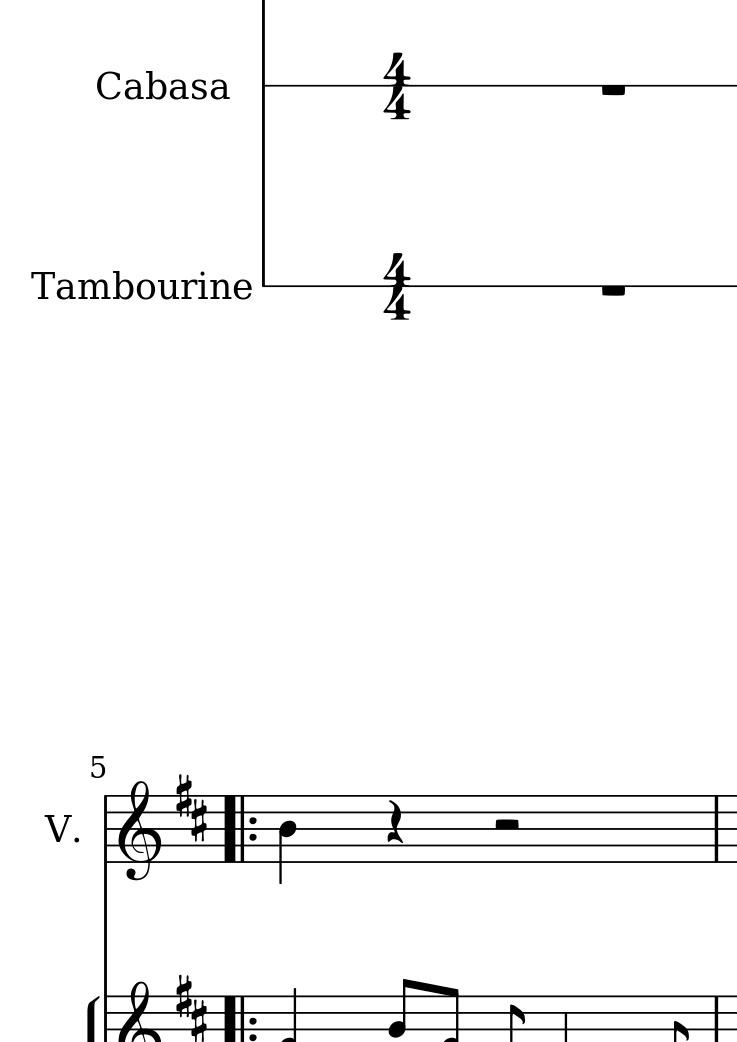4: (382, 85, 413, 120), (384, 49, 412, 87), (384, 250, 411, 288), (385, 287, 414, 322)
4_4: (278, 794, 300, 886)
5: (89, 753, 108, 780)
D_S: (172, 771, 208, 843), (173, 972, 208, 1042)
Gclef: (117, 777, 162, 882)
LeftRepeatSign: (222, 794, 256, 863)
Rests1: (598, 283, 634, 303), (598, 81, 630, 100)
Rests2: (490, 817, 524, 835)
Rests4: (386, 799, 407, 848)
Single_barline: (98, 794, 115, 864), (709, 795, 725, 862)
TimeSig: (382, 49, 415, 124), (384, 252, 413, 326)
